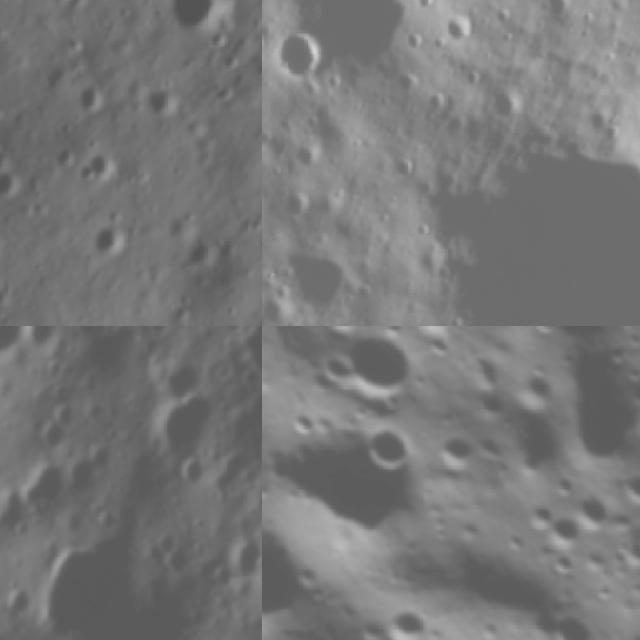crater: (407, 143, 640, 326), (262, 374, 455, 580), (515, 329, 640, 484), (18, 524, 162, 640), (262, 481, 345, 640), (281, 0, 435, 75), (319, 326, 436, 421), (154, 382, 218, 473), (150, 0, 245, 54), (354, 410, 424, 483), (288, 240, 349, 318), (70, 207, 138, 275), (166, 226, 234, 294), (132, 76, 198, 142), (68, 138, 132, 201), (58, 69, 121, 133), (506, 360, 566, 420), (307, 342, 363, 397), (532, 600, 609, 640), (0, 158, 42, 227), (225, 326, 262, 404), (276, 31, 327, 87), (376, 597, 441, 640), (459, 347, 510, 398), (430, 427, 480, 478), (541, 510, 589, 558), (278, 397, 326, 444), (517, 493, 565, 540), (224, 534, 262, 591), (31, 0, 100, 28), (606, 527, 640, 583), (542, 544, 584, 586), (0, 326, 29, 378), (487, 89, 527, 126), (439, 9, 477, 47), (398, 326, 470, 346), (289, 135, 325, 171), (549, 469, 584, 505), (351, 614, 392, 640), (282, 184, 308, 224), (8, 314, 60, 326), (526, 326, 563, 337)
